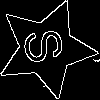S: (21, 23, 75, 67)
